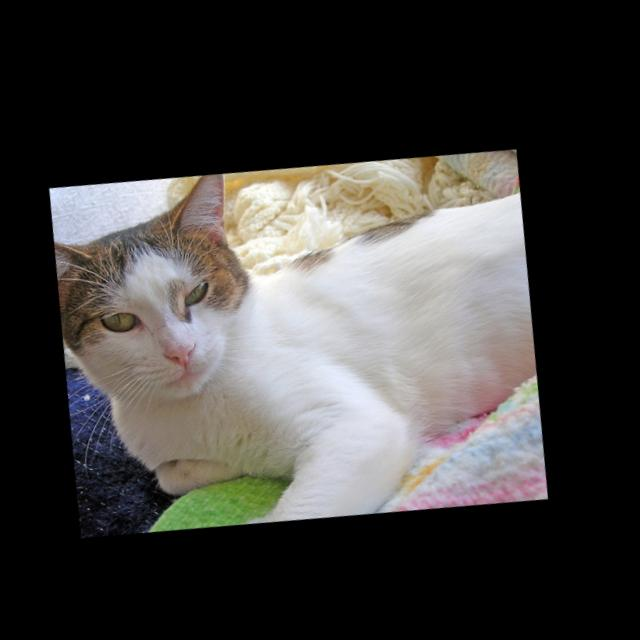animals: (43, 160, 253, 380)
